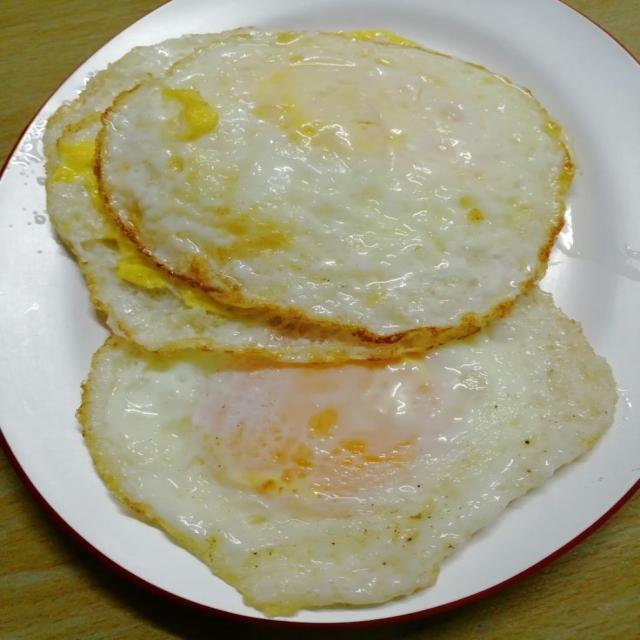fryed egg: (79, 291, 615, 615), (99, 33, 571, 343), (44, 29, 390, 362)
